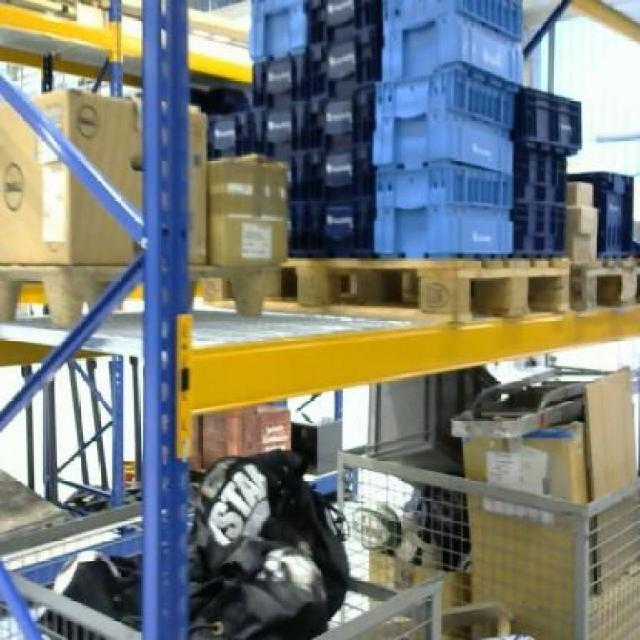box: (2, 90, 206, 262), (464, 434, 584, 622), (208, 157, 287, 266)
